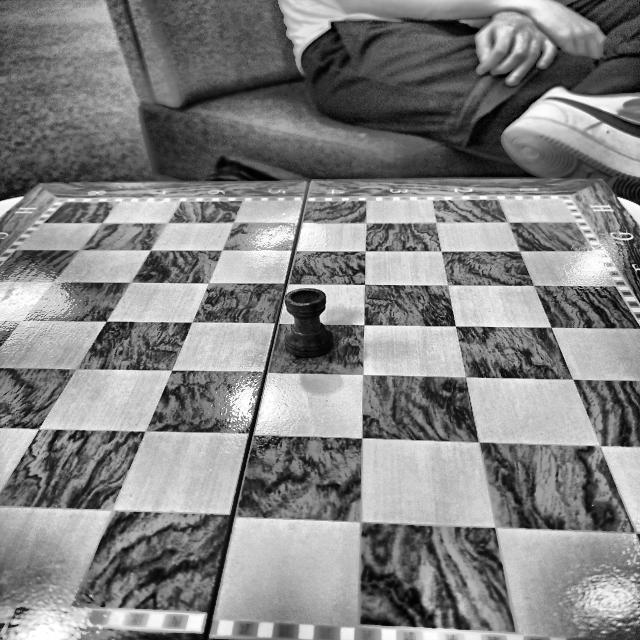black-rook: (284, 287, 335, 357)
